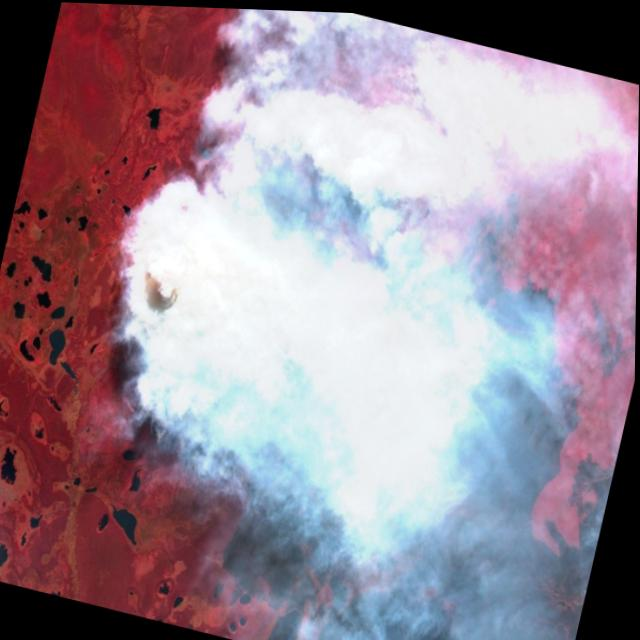fire: (81, 62, 492, 540)
